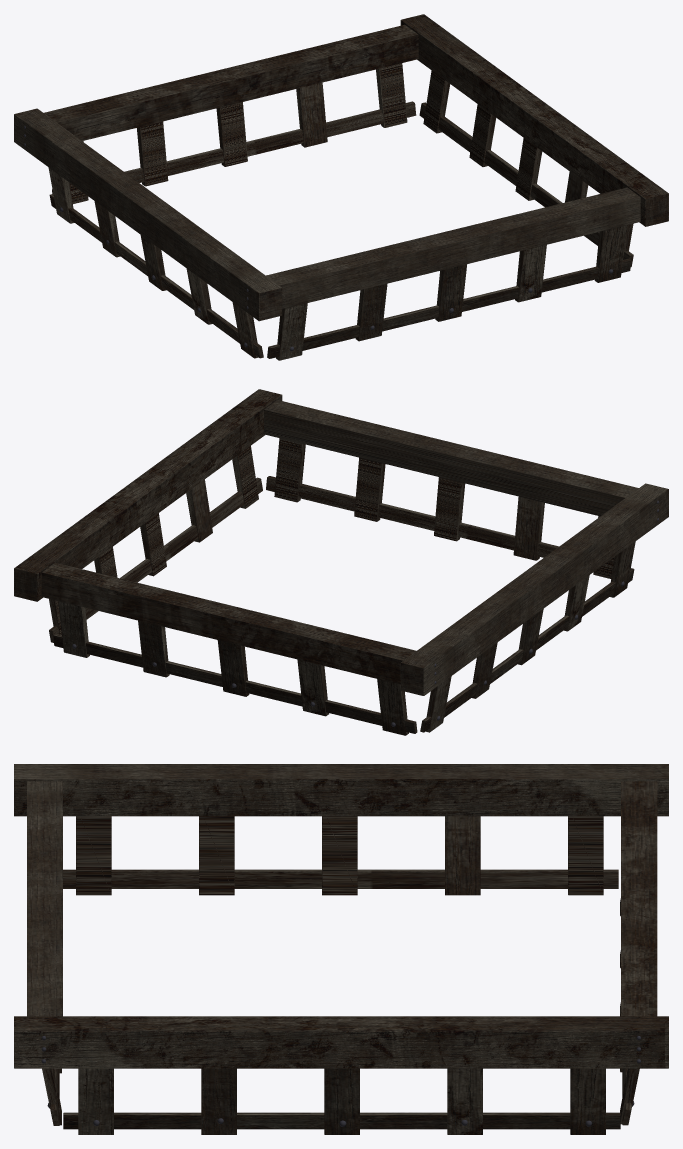
The model's file is TowerRoof_SquareWood.fbx.
3 renders of one model, top to bottom at view 1: azimuth 30°, elevation 25°; view 2: azimuth 150°, elevation 25°; view 3: azimuth 270°, elevation 25°, orthographic. The views are drawn at different scales.
Visible parts, largest first — view 1: Sqyare Tower Top Wood; view 2: Sqyare Tower Top Wood; view 3: Sqyare Tower Top Wood.
Part boxes in pixels (x1=…): Sqyare Tower Top Wood: x1=14, y1=14, x2=668, y2=360; Sqyare Tower Top Wood: x1=14, y1=389, x2=668, y2=735; Sqyare Tower Top Wood: x1=14, y1=764, x2=668, y2=1134.
Size of the model in its own units: 684 by 138 by 704.
